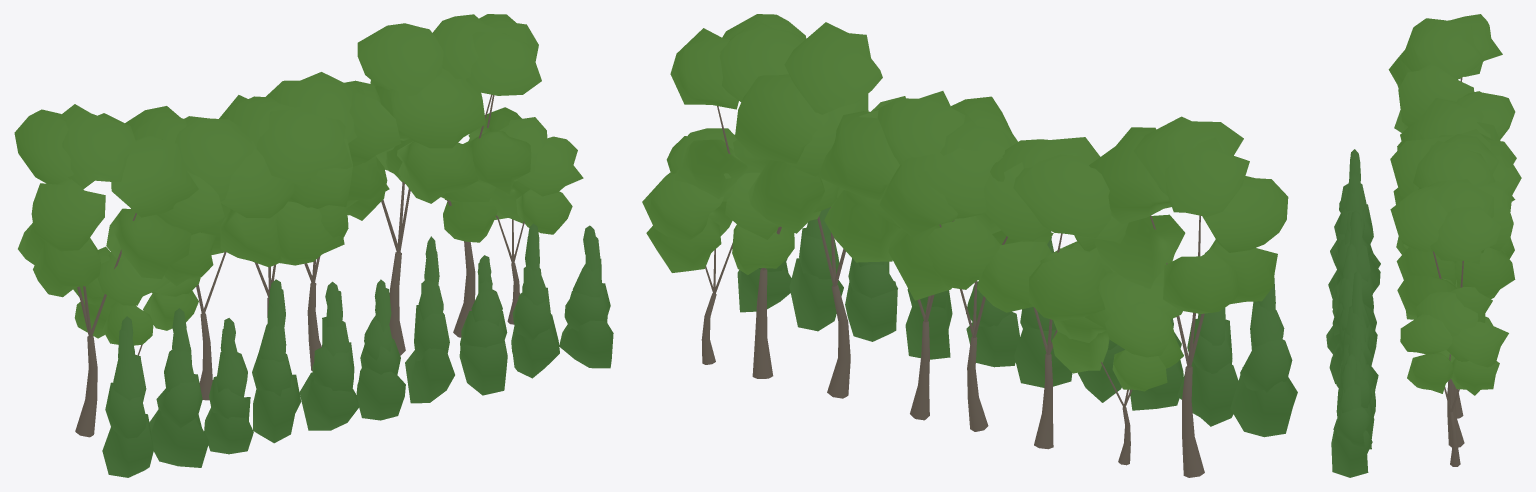
Rendered from Blender_Shelterbelt_1.glb.
3 renders of one model, left to right at view 1: azimuth 30°, elevation 25°; view 2: azimuth 150°, elevation 25°; view 3: azimuth 270°, elevation 25°, orthographic. The views are drawn at different scales.
Visible parts, largest first — view 1: Blender_Shelterbelt_1; view 2: Blender_Shelterbelt_1; view 3: Blender_Shelterbelt_1.
Boxes of the visible parts, <box> form: Blender_Shelterbelt_1: <box>14,14,613,477</box>; Blender_Shelterbelt_1: <box>642,14,1297,477</box>; Blender_Shelterbelt_1: <box>1326,14,1521,477</box>.
Size of the model in its own units: 32.54 by 18.58 by 11.98.
